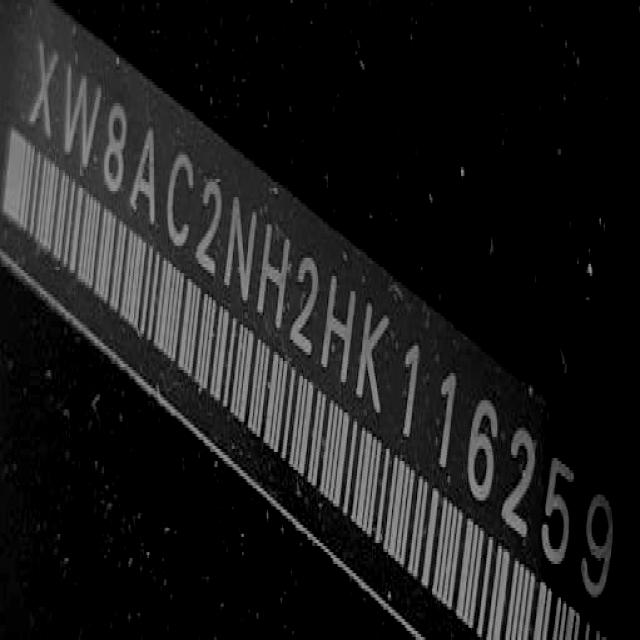1: (428, 358, 462, 486), (392, 335, 424, 453)
2: (499, 418, 543, 549), (190, 157, 229, 288), (284, 238, 322, 371)
5: (535, 447, 580, 577)
6: (462, 386, 503, 520)
8: (97, 92, 131, 204)
9: (575, 480, 621, 618)
A: (127, 117, 167, 234)
C: (160, 143, 199, 261)
H: (317, 263, 360, 401), (254, 212, 294, 348)
K: (350, 293, 398, 435)
N: (220, 188, 264, 320)
W: (55, 54, 108, 181)
X: (24, 30, 64, 161)
